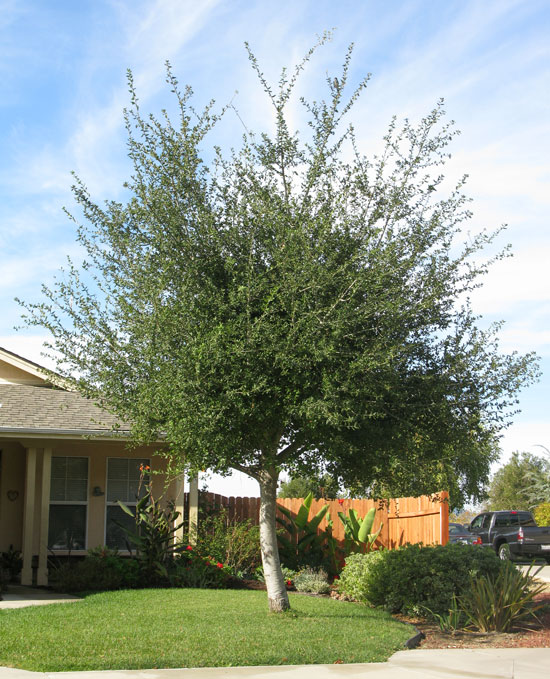tree: (11, 24, 544, 614)
